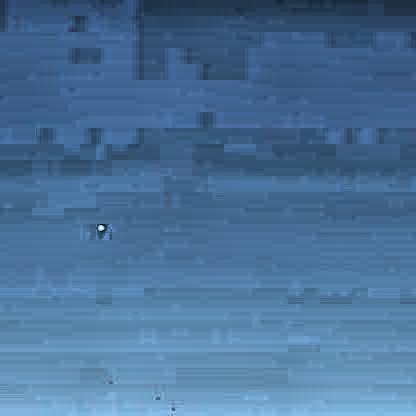golfball: (93, 219, 105, 231)
